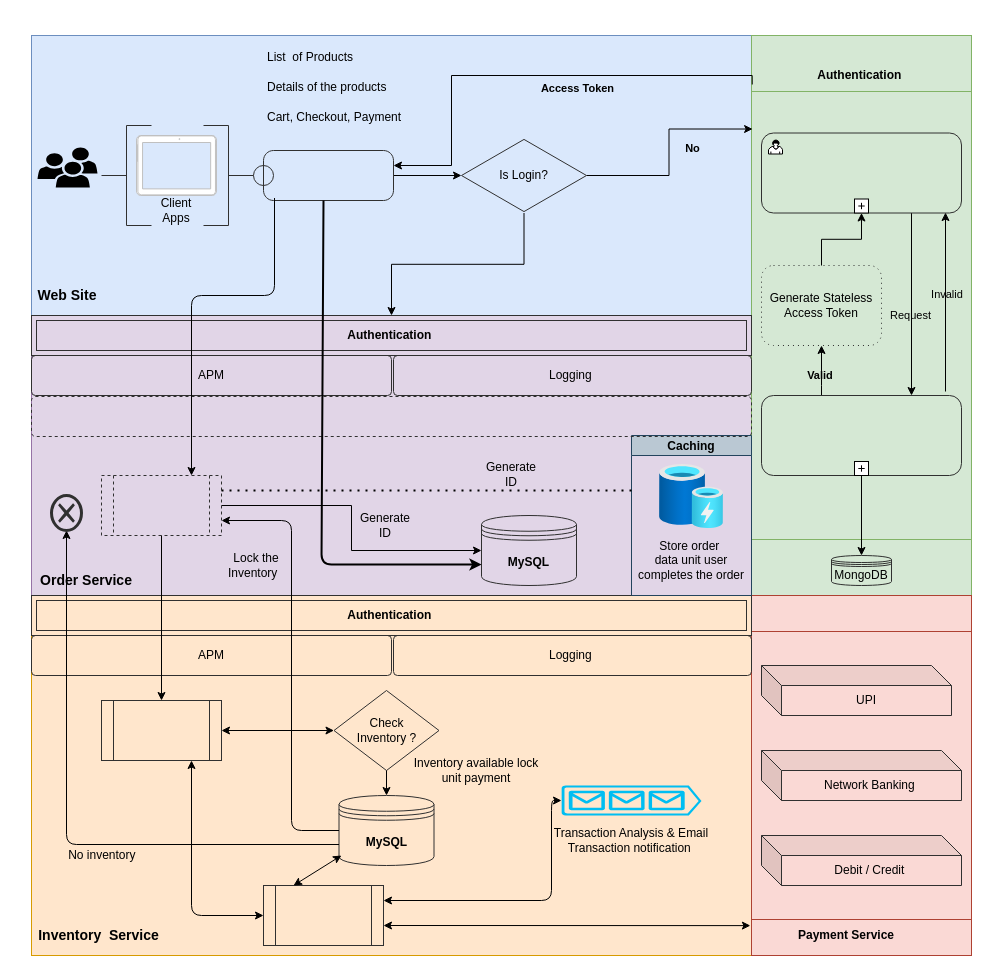
Some shapes in this 989 by 973 pixel diagram are drawn without their labels. The centre of each missing label's shape, as x and y in pixels:
"Add to cart" goes at [161,730].
"Config" goes at [391,416].
"Customer Portal FE App" goes at [323,175].
"New Order" goes at [161,505].
"Payment" goes at [323,915].
"Validate the user credentials" goes at [861,435].
"Validate user" goes at [861,172].
